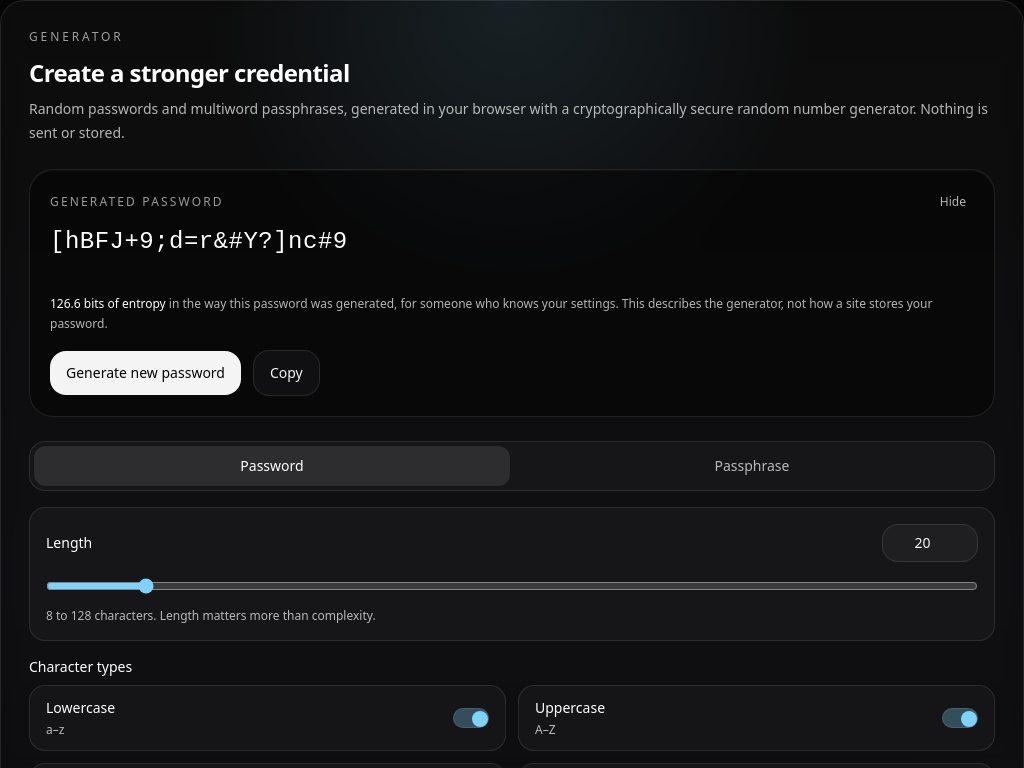
PasswordGenerator: configuration › tells the user when no character type is selected instead of silently ignoring the click
This screenshot has width=1024, height=768.
Click the switch labelled "Lowercase a–z" at (81, 708), box x1=29 y1=685 x2=506 y2=751
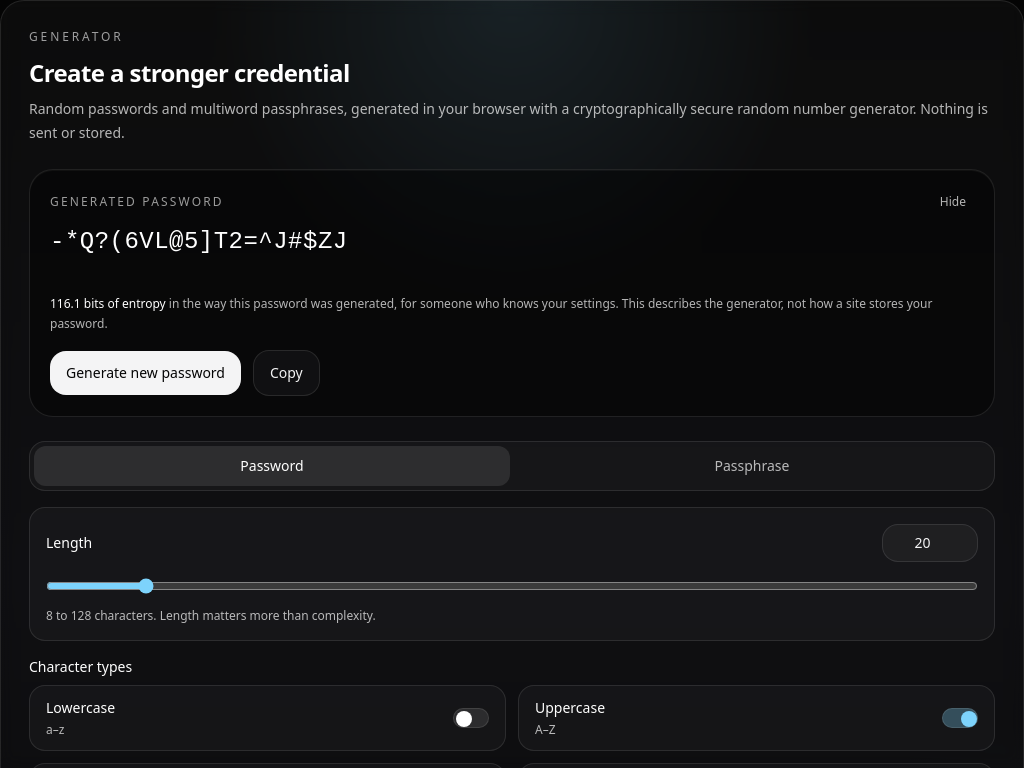
Click the switch labelled "Uppercase A–Z" at (570, 708), box x1=518 y1=685 x2=995 y2=751
(page scrolled)
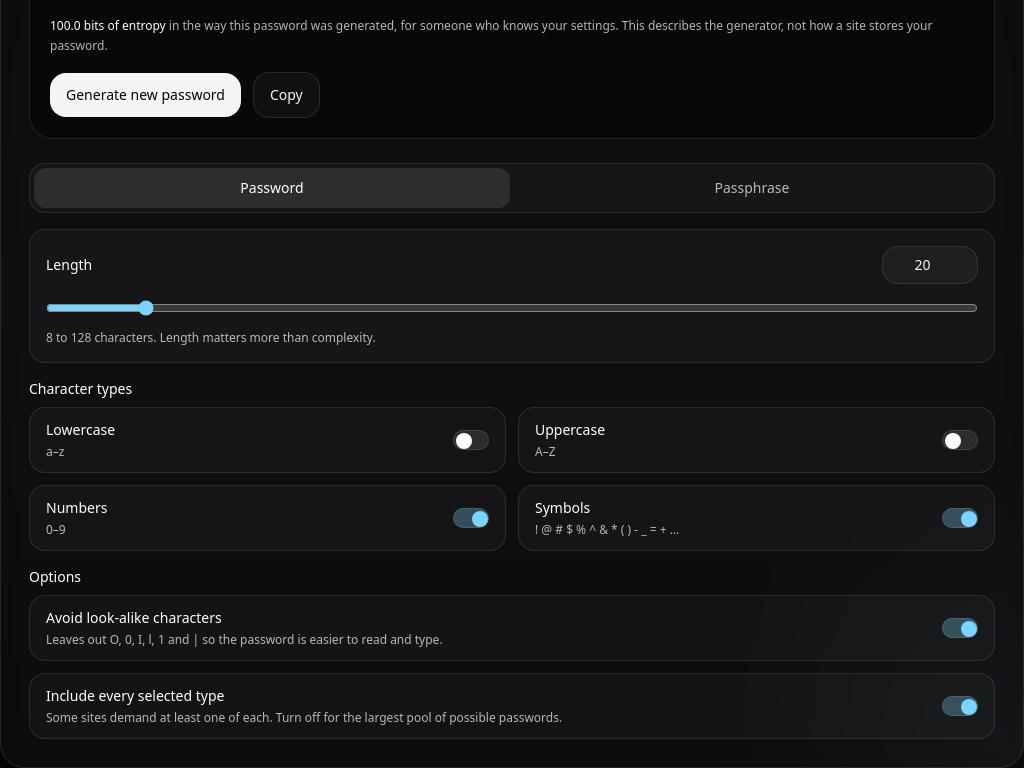
Click the switch labelled "Numbers 0–9" at (77, 508), box x1=29 y1=485 x2=506 y2=551
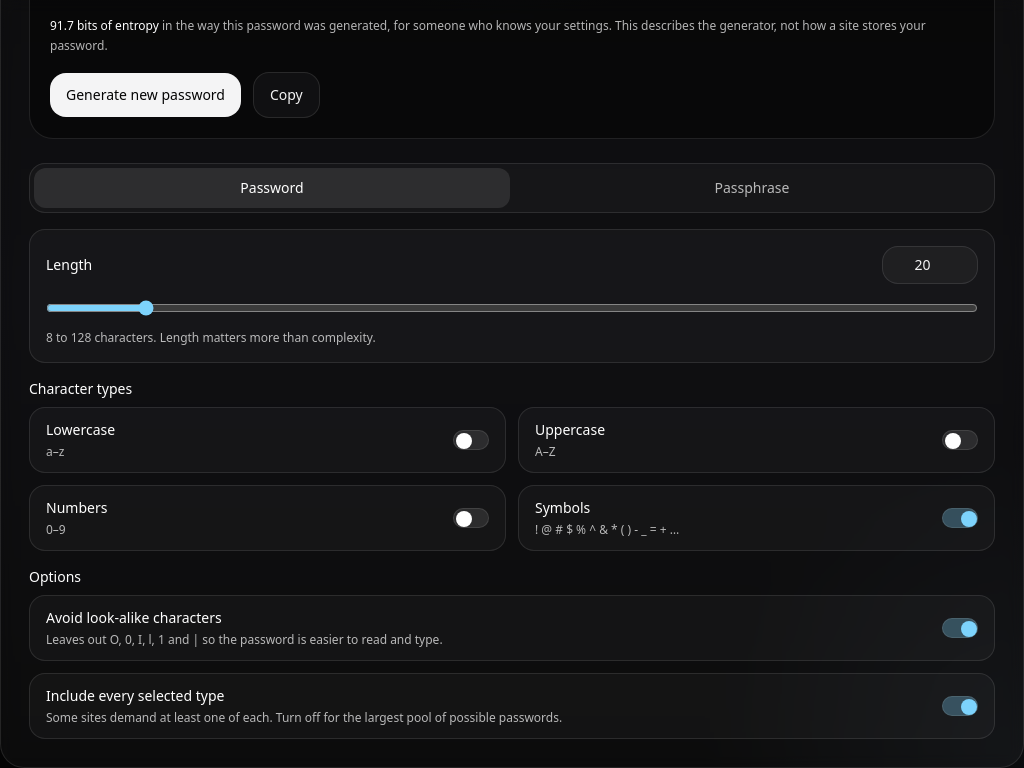
Click the switch labelled "Symbols ! @ # $ % ^ & * ( ) - _ = + …" at (563, 508), box x1=518 y1=485 x2=995 y2=551
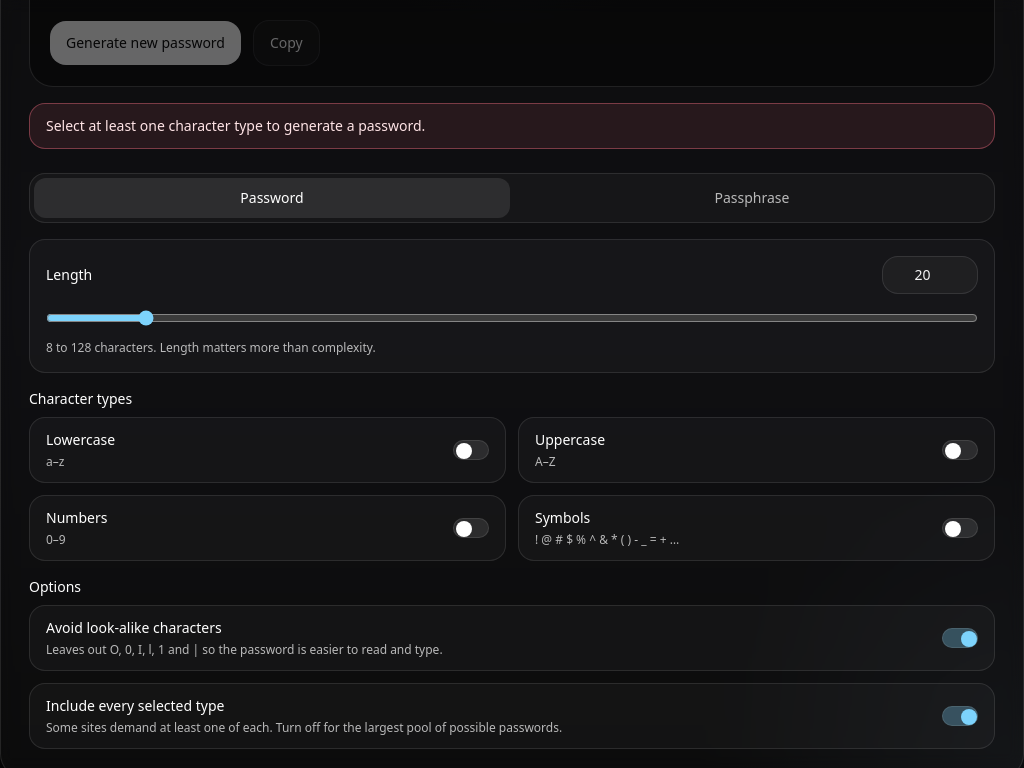
Check: the message shows "Select at least one character type", box x1=46 y1=116 x2=425 y2=135
Click the switch labelled "Numbers 0–9" at (77, 518), box x1=29 y1=495 x2=506 y2=561
(page scrolled)
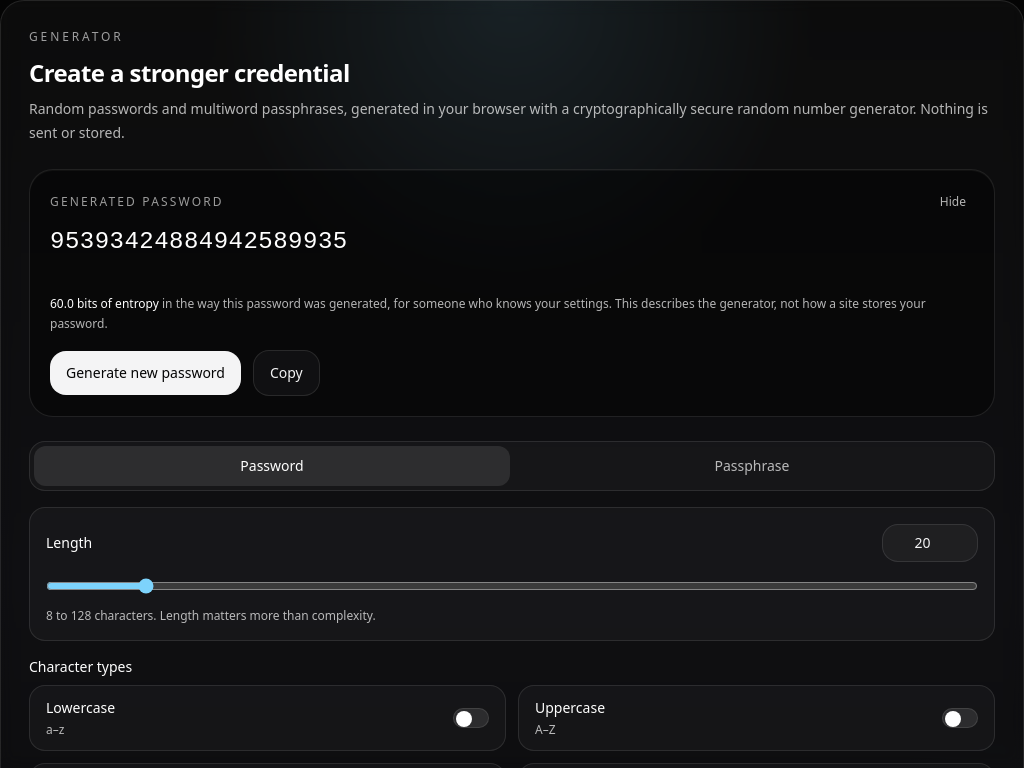
Check: the message "Select at least one character type to generate a password." is gone
Check: the text labelled "95393424884942589935" is shown, box x1=50 y1=228 x2=348 y2=255
